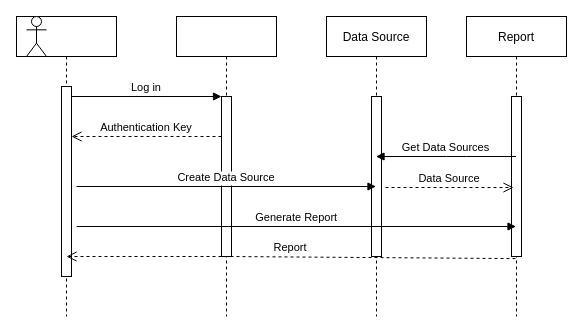
Image size: 583x333. Some labels were removed from this diagram. Here are the shapes that lost their labels. From the top down, the box of each, then its label:
(16, 16, 116, 316): User
(176, 16, 276, 316): Authentication
